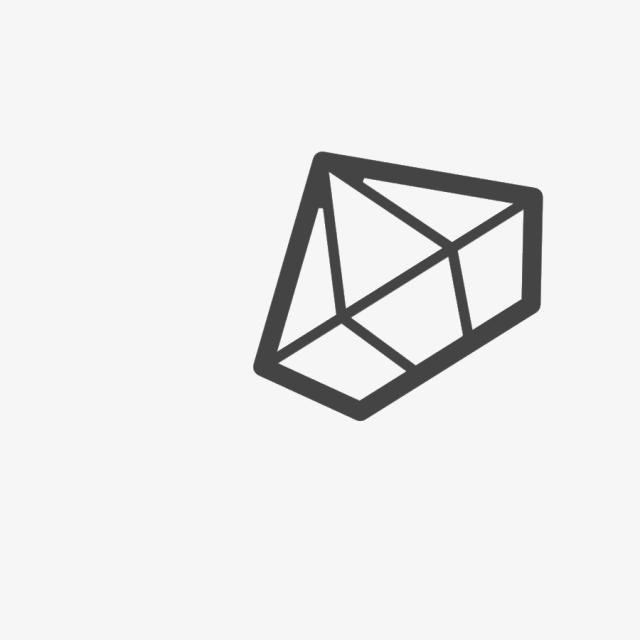diamond: (244, 145, 549, 429)
